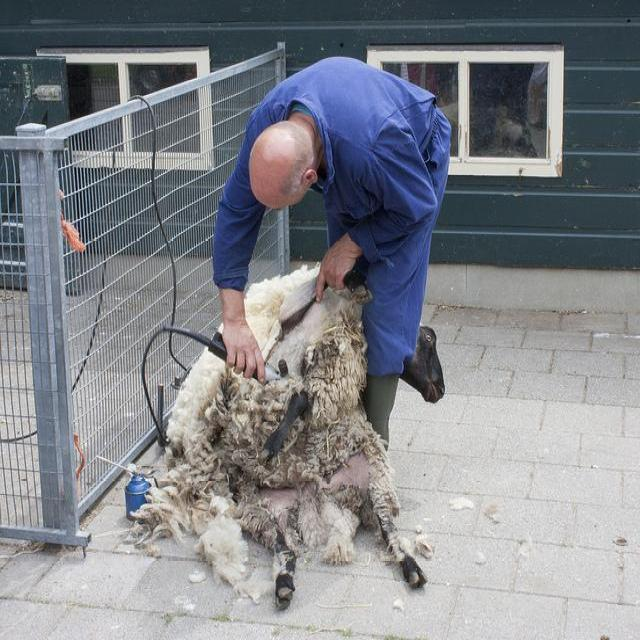obstacle: (211, 54, 453, 450)
